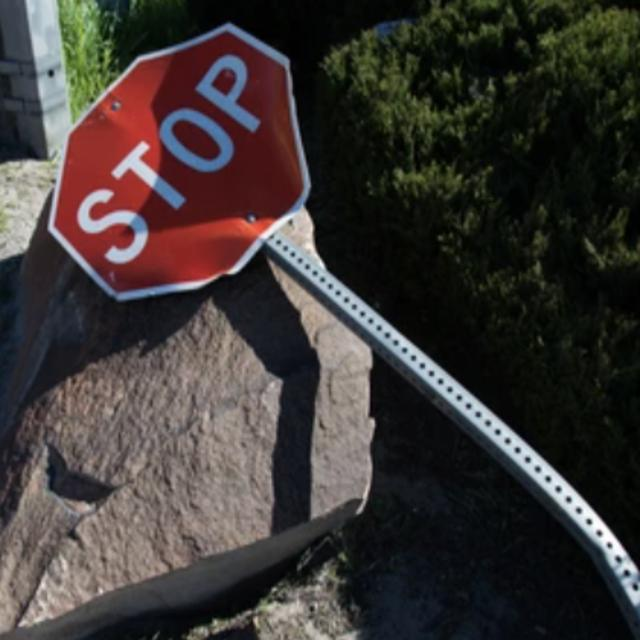Inclined Pole: (49, 21, 640, 636)
